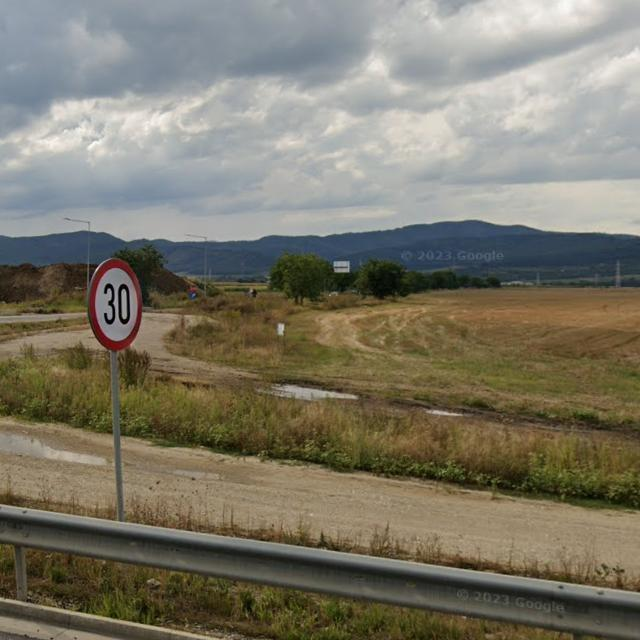forb_speed_over_30: (88, 258, 144, 349)
